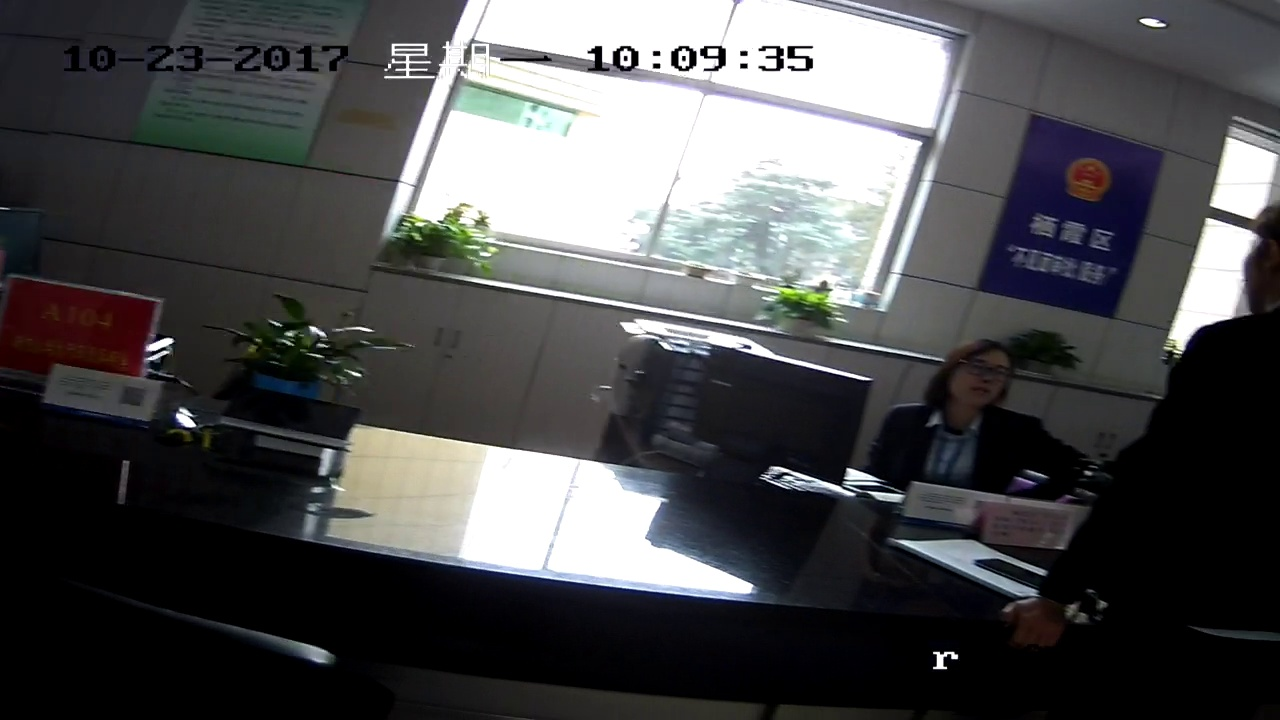billboard: (164, 2, 319, 148), (1017, 126, 1129, 318), (11, 276, 149, 389)
monitor: (697, 355, 864, 502)
person: (918, 344, 1032, 474)
pot: (390, 207, 496, 289), (249, 318, 358, 397), (765, 276, 834, 340)
